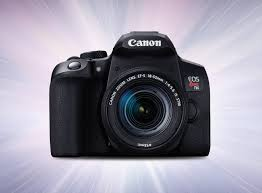camera: (51, 30, 210, 156)
